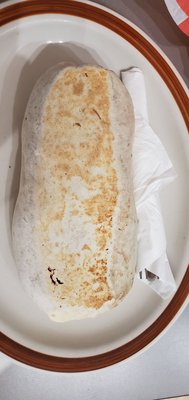soup: (11, 64, 138, 324)
